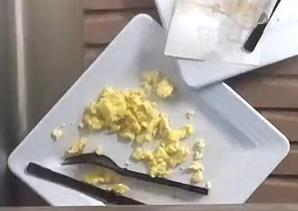scrambled_eggs: (82, 87, 191, 176)
